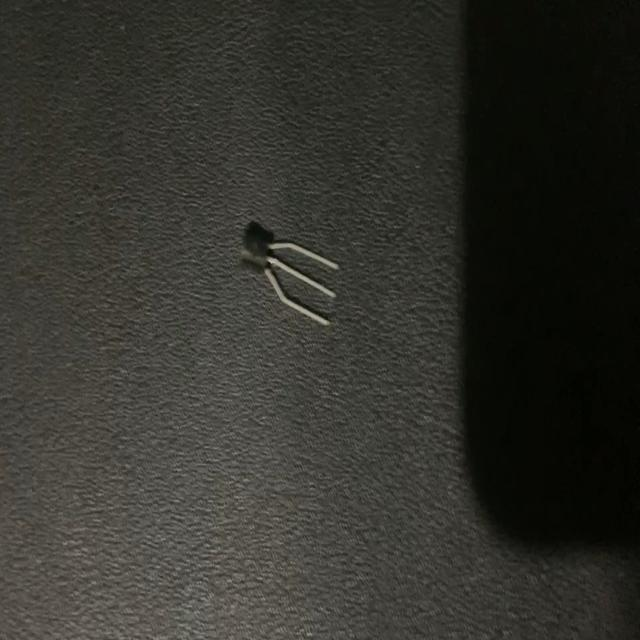BJT: (239, 226, 338, 336)
